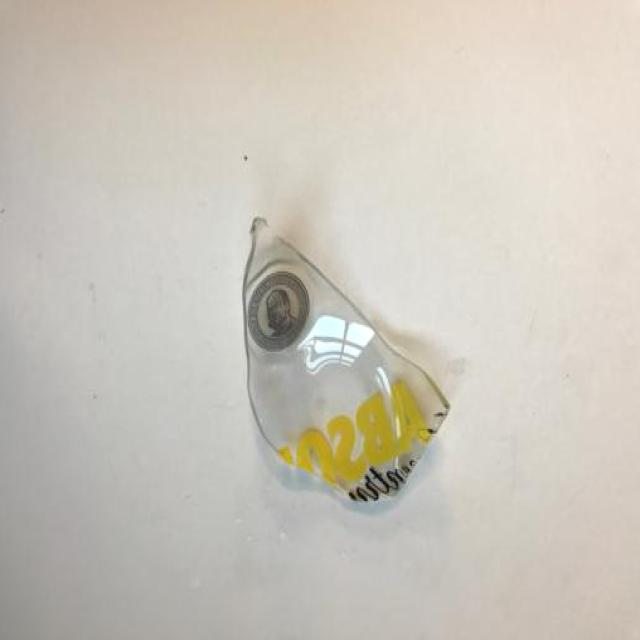thuy_tinh: (242, 218, 449, 511)
